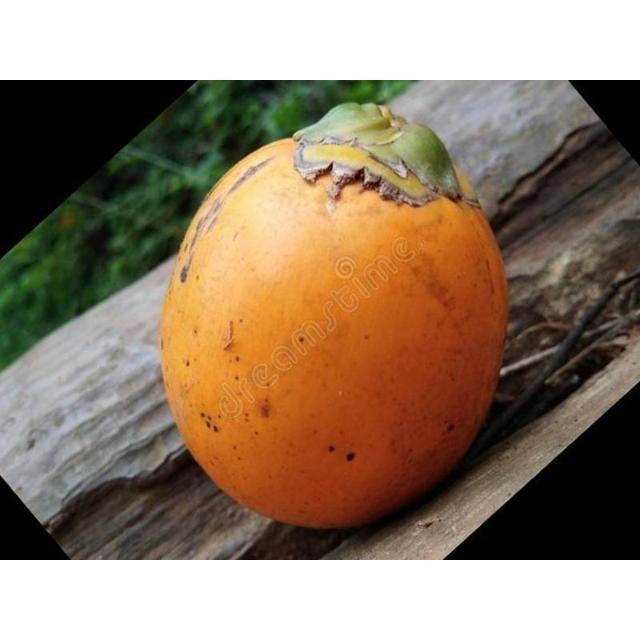good: (158, 103, 510, 533)
